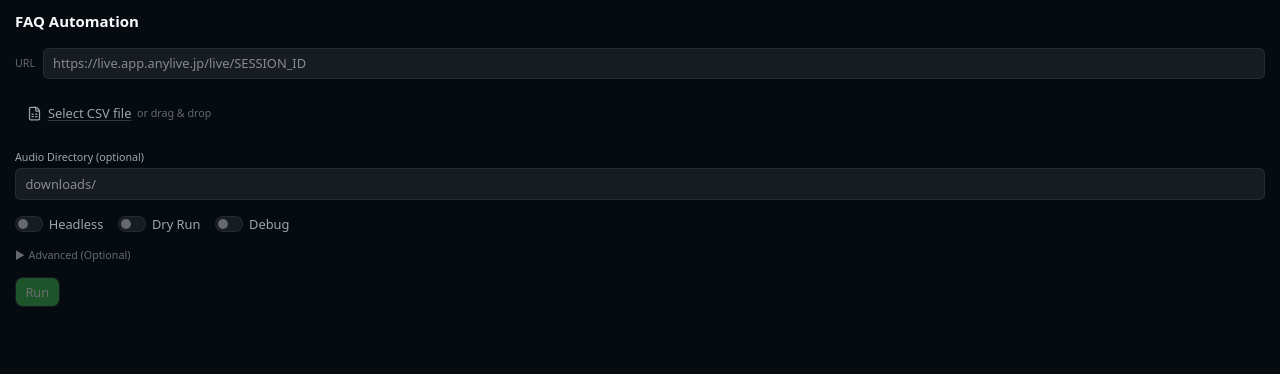
Test: FAQPanel › advanced toggle shows and hides start-product and limit fields
Click the button with test id "faq-toggle-advanced".
click(73, 255)  # box [15,248,130,262]
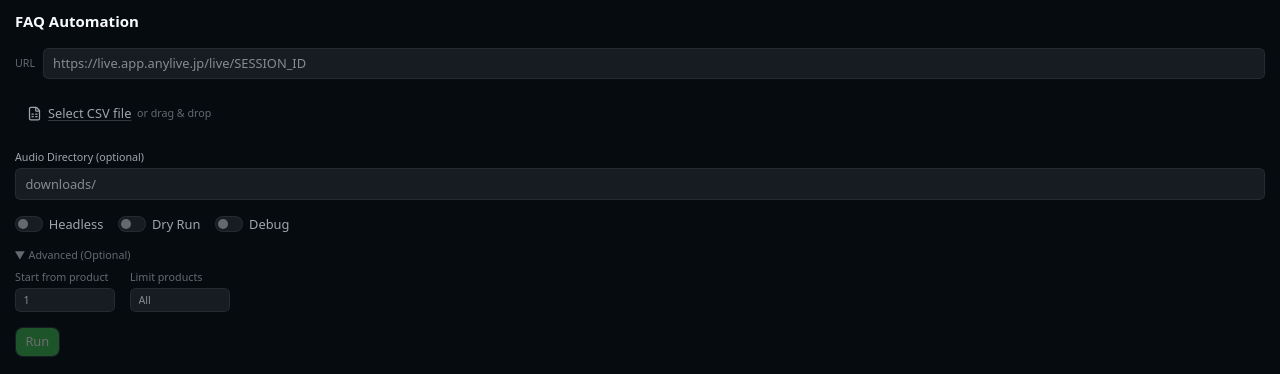
Result: the number field with test id "faq-option-start-product" is shown at [15,288,115,312]
Result: the number field with test id "faq-option-limit" is shown at [130,288,230,312]
Click the button with test id "faq-toggle-advanced".
click(73, 255)  # box [15,248,130,262]
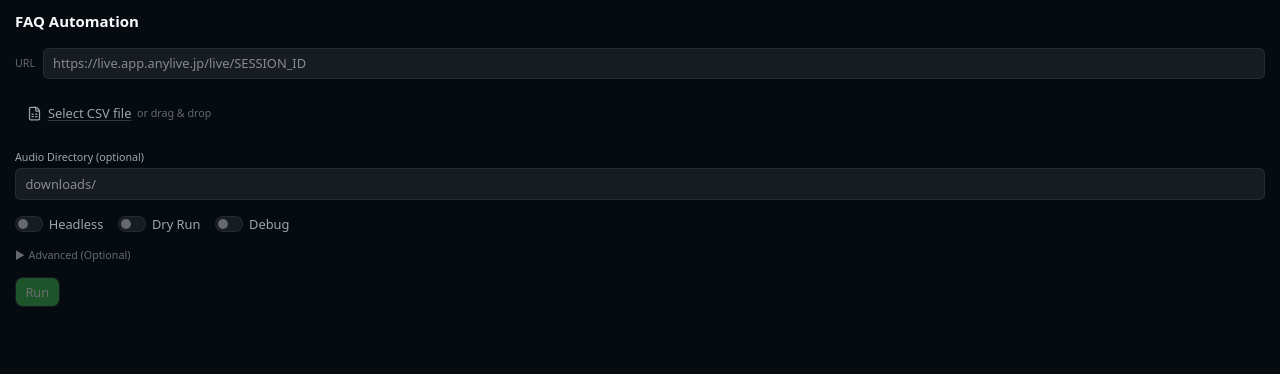
Result: the number field with test id "faq-option-start-product" is gone
